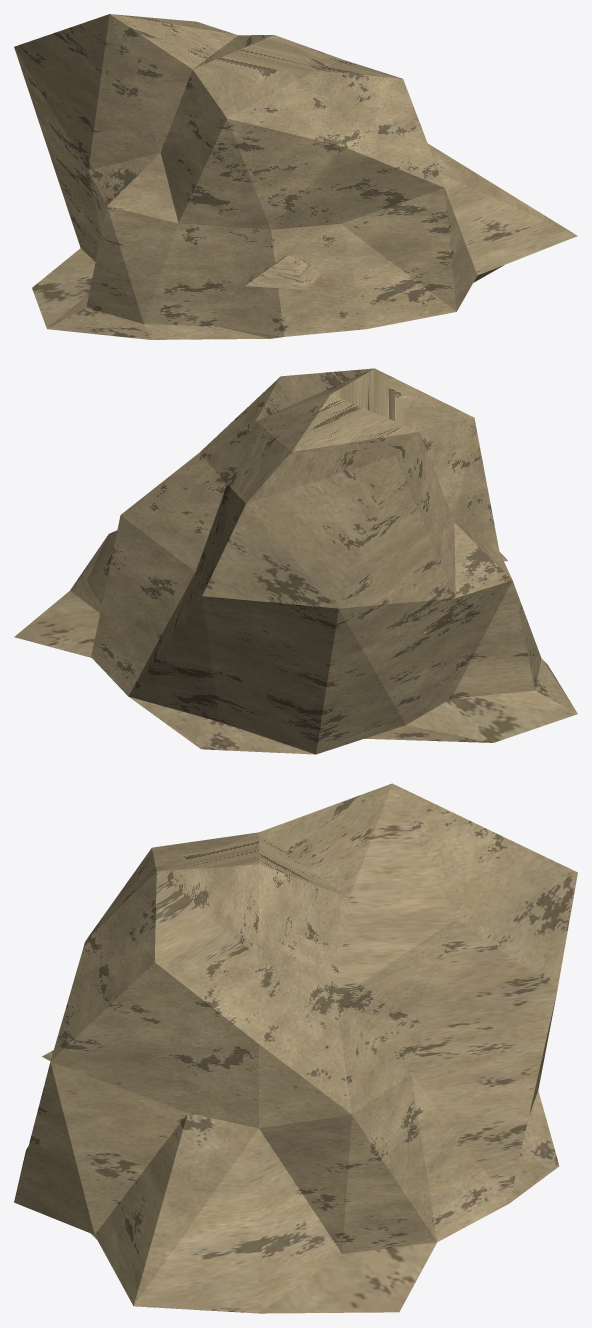
File: ae_battle_rock_boulder_lod0.glb
3 renders of one model, top to bottom at view 1: azimuth 30°, elevation 25°; view 2: azimuth 150°, elevation 25°; view 3: azimuth 270°, elevation 25°, orthographic. The views are drawn at different scales.
Parts seen in each view (by area): view 1: ae_battle_rock_boulder_lod0; view 2: ae_battle_rock_boulder_lod0; view 3: ae_battle_rock_boulder_lod0.
Part boxes in pixels (x1=…): ae_battle_rock_boulder_lod0: x1=14, y1=14, x2=577, y2=339; ae_battle_rock_boulder_lod0: x1=14, y1=368, x2=577, y2=754; ae_battle_rock_boulder_lod0: x1=14, y1=783, x2=577, y2=1313.
Size of the model in its own units: 8.62 by 4.3 by 6.93.
Materials: 1 (1 with a texture image).
